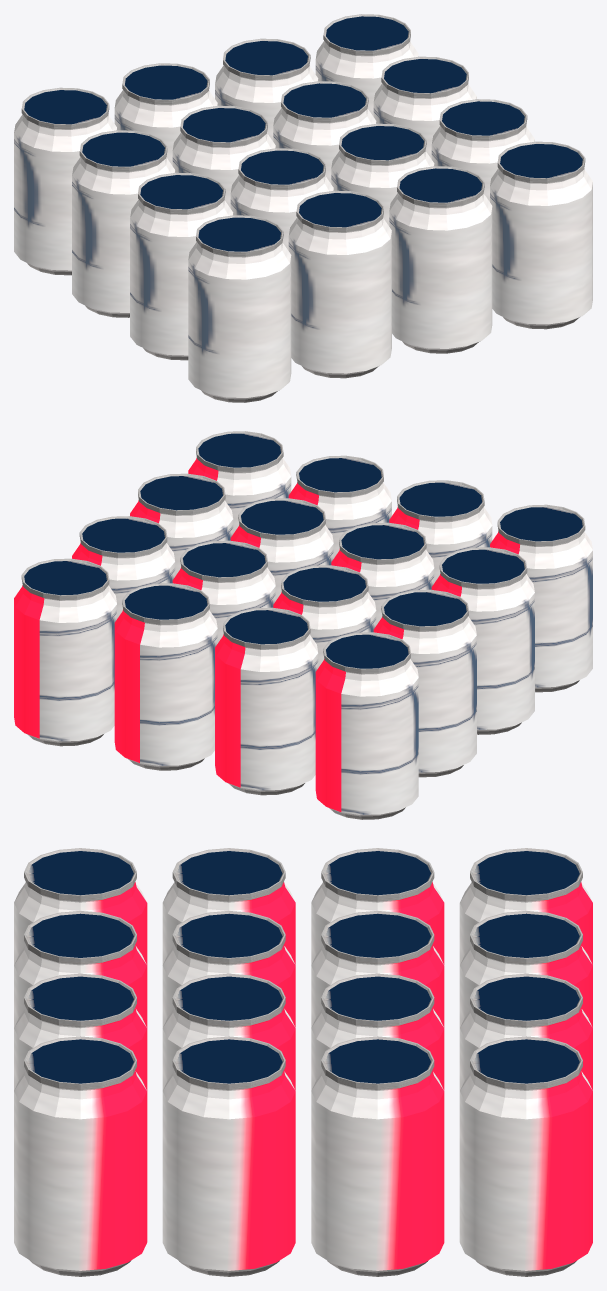
Rendered from Fanta_SodaCan.fbx.
3 views of the same model, one above another, from view 1: azimuth 30°, elevation 25°; view 2: azimuth 150°, elevation 25°; view 3: azimuth 270°, elevation 25° (orthographic). The views are drawn at different scales.
Parts seen in each view (by area): view 1: Fanta; view 2: Fanta; view 3: Fanta.
Part boxes in pixels (left/top/right/bottom): Fanta: left=14, top=14, right=592, bottom=402; Fanta: left=14, top=431, right=592, bottom=819; Fanta: left=14, top=848, right=592, bottom=1276.
Size of the model in its own units: 38.96 by 14.45 by 38.96.
